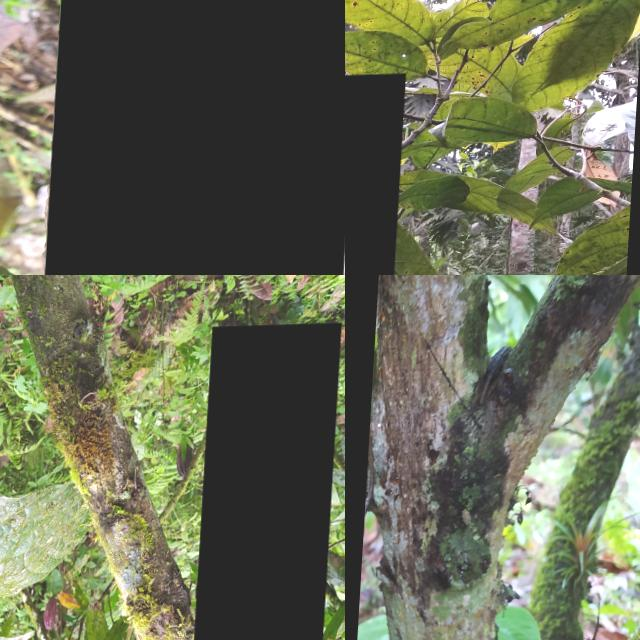Fitoftora: (43, 0, 345, 275), (196, 326, 342, 640)
